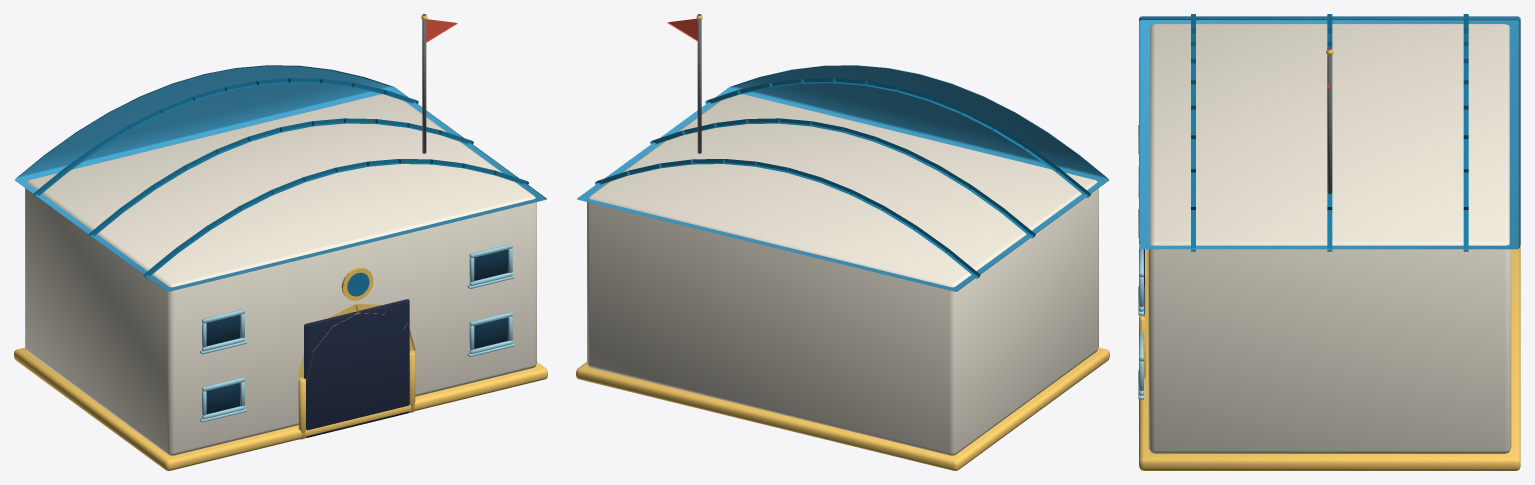
3 renders of one model, left to right at view 1: azimuth 30°, elevation 25°; view 2: azimuth 150°, elevation 25°; view 3: azimuth 270°, elevation 25°, orthographic. The views are drawn at different scales.
Parts seen in each view (by area): view 1: hq; view 2: hq; view 3: hq.
Part boxes in pixels (box(x1,y1,x2,y2)): hq: box(14, 14, 547, 470); hq: box(576, 14, 1109, 470); hq: box(1138, 14, 1520, 470).
Bounding box in the file's own units: 20.09 × 16 × 14.03.
